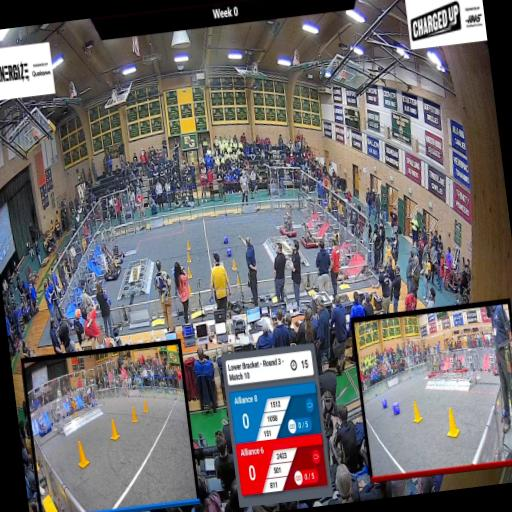robot: (98, 245, 123, 285), (104, 230, 128, 268), (90, 284, 114, 320), (276, 206, 298, 239), (298, 220, 322, 250), (328, 250, 350, 282)
